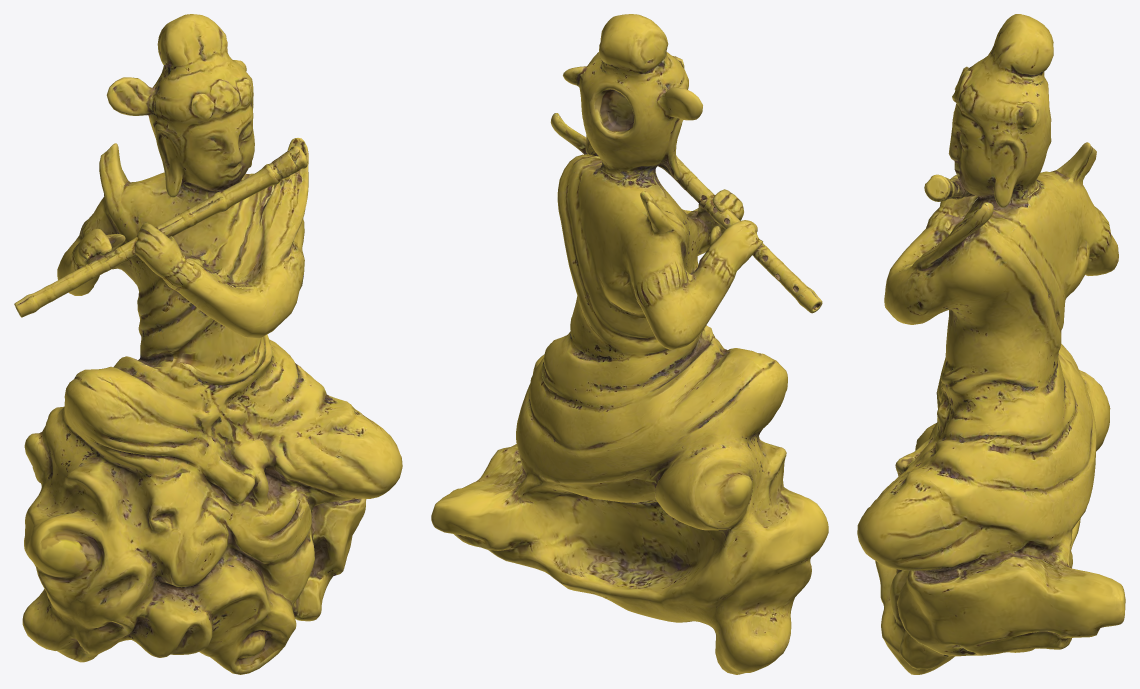
File: guardian.glb
The picture shows the model from 3 angles, left to right: view 1: azimuth 30°, elevation 25°; view 2: azimuth 150°, elevation 25°; view 3: azimuth 270°, elevation 25°; orthographic projection. The views are drawn at different scales.
Visible parts, largest first — view 1: SM_24RE0055_Low_T_24RE0055_0; view 2: SM_24RE0055_Low_T_24RE0055_0; view 3: SM_24RE0055_Low_T_24RE0055_0.
Part boxes in pixels (x1,y1,x2,y2): SM_24RE0055_Low_T_24RE0055_0: (14, 14, 402, 674); SM_24RE0055_Low_T_24RE0055_0: (431, 14, 828, 674); SM_24RE0055_Low_T_24RE0055_0: (857, 14, 1125, 674).
Size of the model in its own units: 0.0678 by 0.121 by 0.0452.
Materials: 1 (1 with a texture image).
